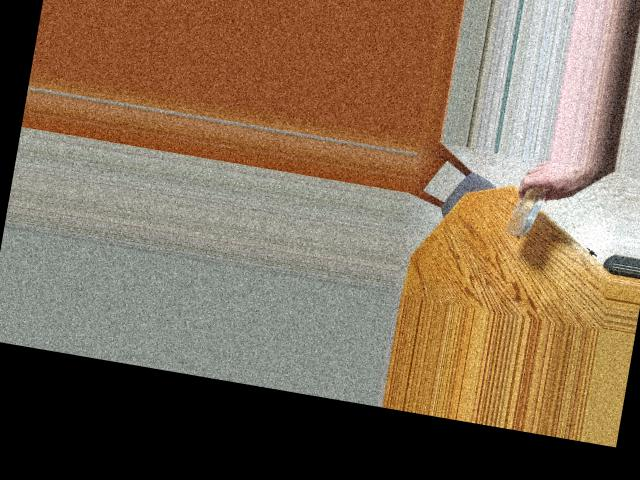cheese: (502, 182, 549, 233)
